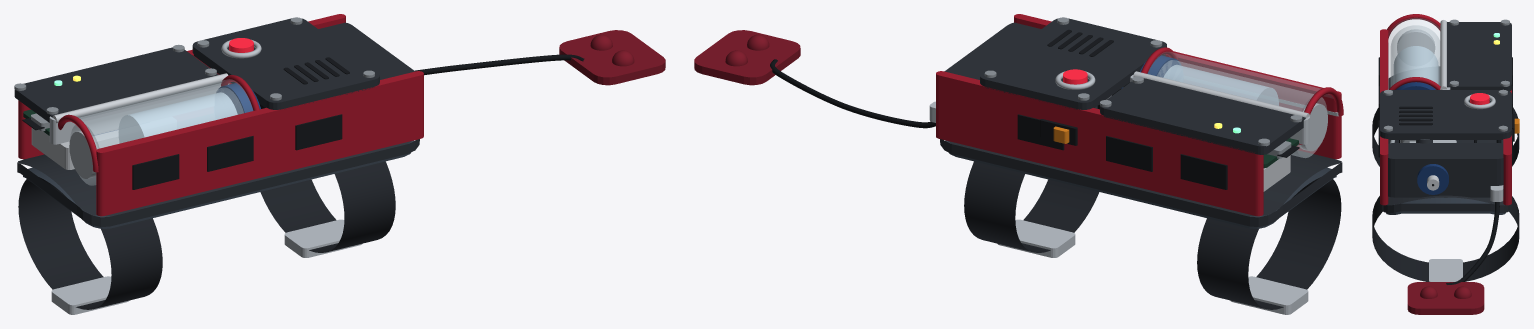
Rendered from ws-01-web-shooter.glb.
The picture shows the model from 3 angles, left to right: view 1: azimuth 30°, elevation 25°; view 2: azimuth 150°, elevation 25°; view 3: azimuth 270°, elevation 25°; orthographic projection. The views are drawn at different scales.
Parts seen in each view (by area): view 1: SIDE_RAIL_RADIAL, STRAPS, COVER_PUMP, COVER_ELEC, CART_DOOR, BASE_PLATE, CARTRIDGE, PALM_TRIGGER, CENTER_SPINE, NOSE_SHROUD, SKIN_LINER, BATTERY_2S (+4 smaller); view 2: SIDE_RAIL_ULNAR, STRAPS, COVER_PUMP, COVER_ELEC, BASE_PLATE, CART_DOOR, CARTRIDGE, PALM_TRIGGER, SIDE_RAIL_RADIAL, NOSE_SHROUD, CENTER_SPINE, HARNESS (+5 smaller); view 3: NOSE_SHROUD, COVER_PUMP, COVER_ELEC, STRAPS, CART_DOOR, CARTRIDGE, PALM_TRIGGER, BASE_PLATE, SIDE_RAIL_RADIAL, SKIN_LINER, HARNESS, SIDE_RAIL_ULNAR (+5 smaller).
Boxes of the visible parts, <box> form: SIDE_RAIL_RADIAL: <box>96,71,423,216</box>; STRAPS: <box>18,161,395,314</box>; COVER_PUMP: <box>192,18,379,109</box>; COVER_ELEC: <box>14,47,218,130</box>; CART_DOOR: <box>58,75,259,172</box>; BASE_PLATE: <box>17,139,419,226</box>; CARTRIDGE: <box>69,83,260,185</box>; PALM_TRIGGER: <box>559,30,665,85</box>; CENTER_SPINE: <box>49,73,229,144</box>; NOSE_SHROUD: <box>318,22,414,79</box>; SKIN_LINER: <box>23,140,414,228</box>; BATTERY_2S: <box>31,128,119,169</box>; SIDE_RAIL_ULNAR: <box>936,71,1263,216</box>; STRAPS: <box>964,161,1341,314</box>; COVER_PUMP: <box>980,18,1166,109</box>; COVER_ELEC: <box>1100,78,1305,157</box>; BASE_PLATE: <box>940,106,1342,226</box>; CART_DOOR: <box>1141,47,1343,144</box>; CARTRIDGE: <box>1140,55,1327,157</box>; PALM_TRIGGER: <box>694,30,800,85</box>; SIDE_RAIL_RADIAL: <box>1014,14,1341,159</box>; NOSE_SHROUD: <box>944,22,1041,79</box>; CENTER_SPINE: <box>1130,71,1309,144</box>; HARNESS: <box>770,59,1123,128</box>; NOSE_SHROUD: <box>1388,143,1503,197</box>; COVER_PUMP: <box>1380,90,1511,139</box>; COVER_ELEC: <box>1447,22,1511,91</box>; STRAPS: <box>1372,107,1519,281</box>; CART_DOOR: <box>1387,14,1440,89</box>; CARTRIDGE: <box>1391,25,1439,89</box>; PALM_TRIGGER: <box>1407,282,1484,314</box>; BASE_PLATE: <box>1382,66,1509,212</box>; SIDE_RAIL_RADIAL: <box>1378,29,1388,205</box>; SKIN_LINER: <box>1386,197,1505,214</box>; HARNESS: <box>1446,140,1503,284</box>; SIDE_RAIL_ULNAR: <box>1503,57,1512,205</box>.
Size of the model in its own units: 0.2574 by 0.0839 by 0.0693.
